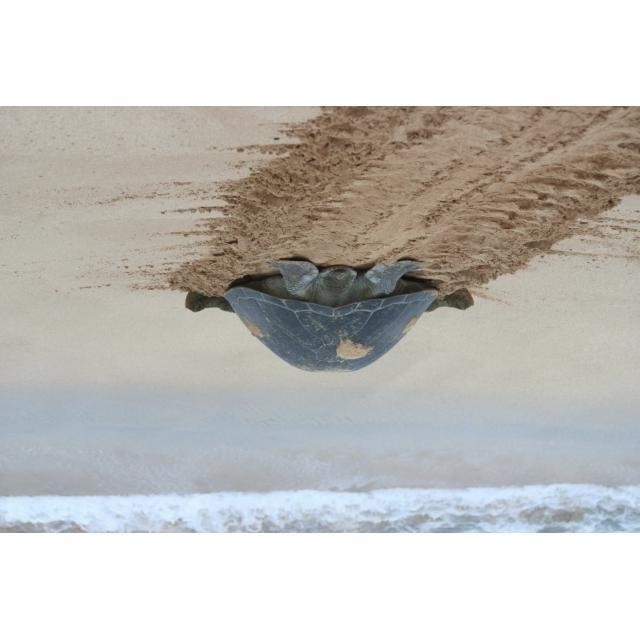turtle: (185, 255, 475, 373)
